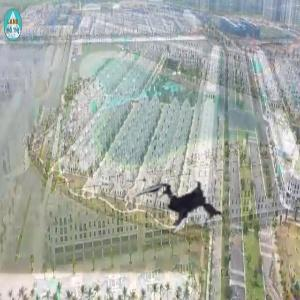drone: (145, 164, 229, 248)
